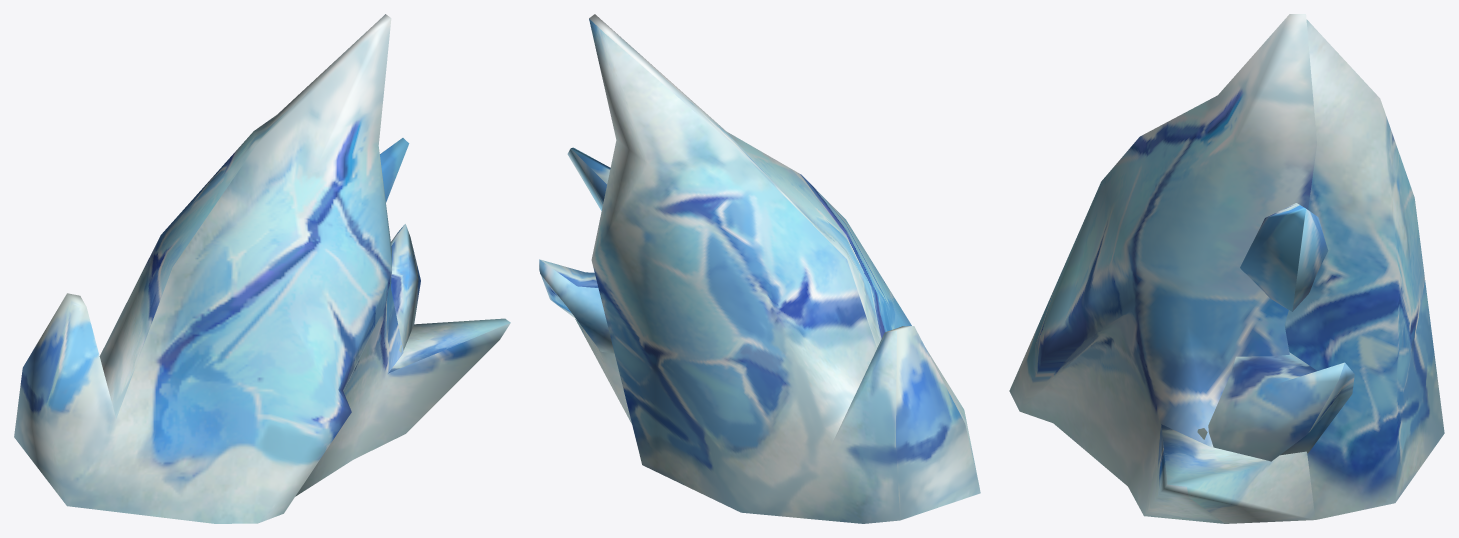
File: xs_bingzui3.FBX
3 views of the same model, side by side, from view 1: azimuth 30°, elevation 25°; view 2: azimuth 150°, elevation 25°; view 3: azimuth 270°, elevation 25° (orthographic). The views are drawn at different scales.
Visible parts, largest first — view 1: Object03, Object13, Object08; view 2: Object03, Object13, Object08; view 3: Object03, Object13, Object08.
Boxes of the visible parts, x1=… form: Object03: x1=14, y1=14, x2=510, y2=523; Object13: x1=391, y1=224, x2=420, y2=352; Object08: x1=380, y1=138, x2=409, y2=202; Object03: x1=575, y1=14, x2=980, y2=523; Object13: x1=539, y1=259, x2=614, y2=353; Object08: x1=567, y1=147, x2=610, y2=210; Object03: x1=1009, y1=14, x2=1444, y2=523; Object13: x1=1197, y1=352, x2=1354, y2=461; Object08: x1=1240, y1=203, x2=1328, y2=311.
Bounding box in the file's own units: 149 × 130 × 92.73.
